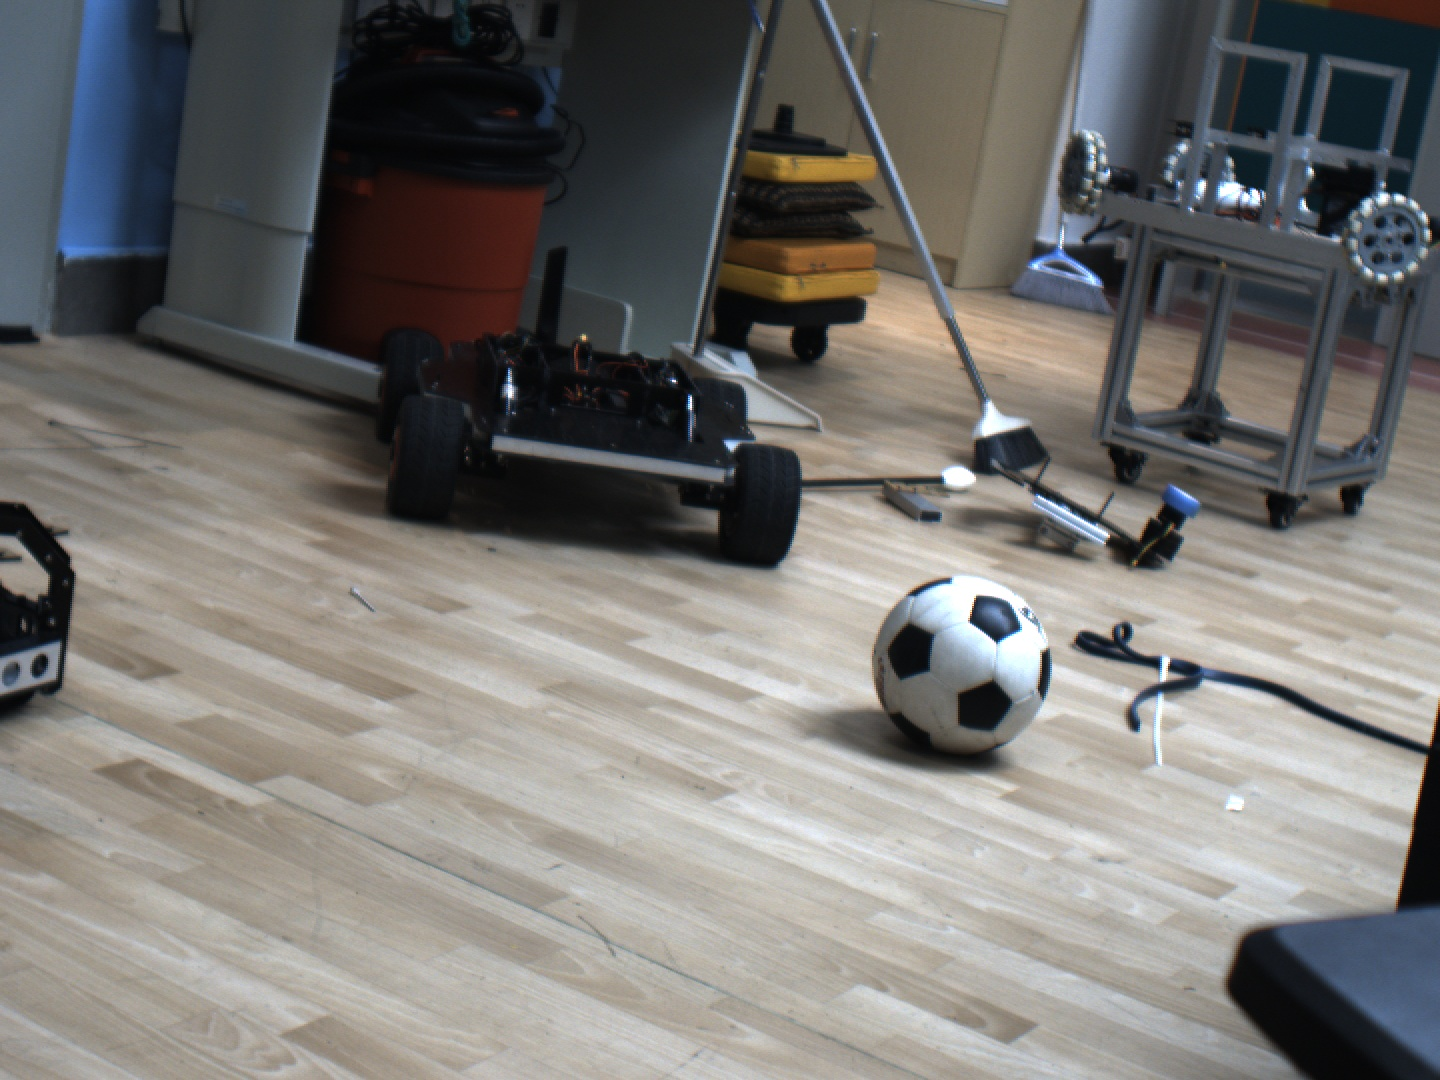ball: (863, 563, 1064, 759)
